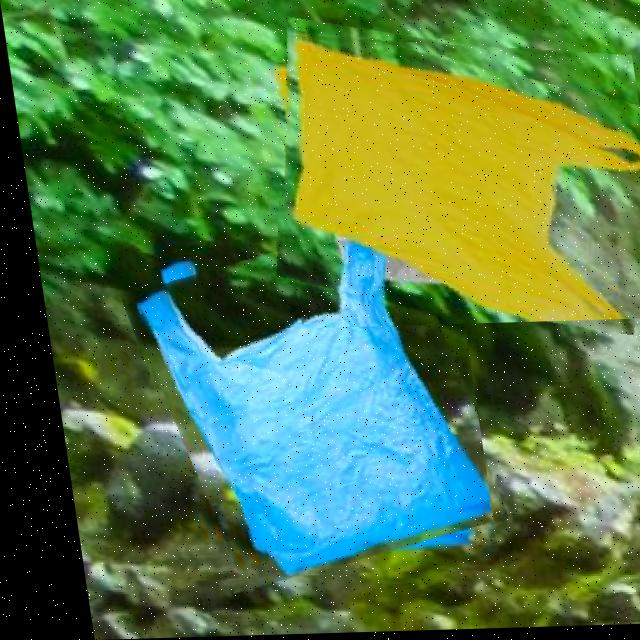litter: (121, 236, 483, 582), (249, 26, 640, 331)
